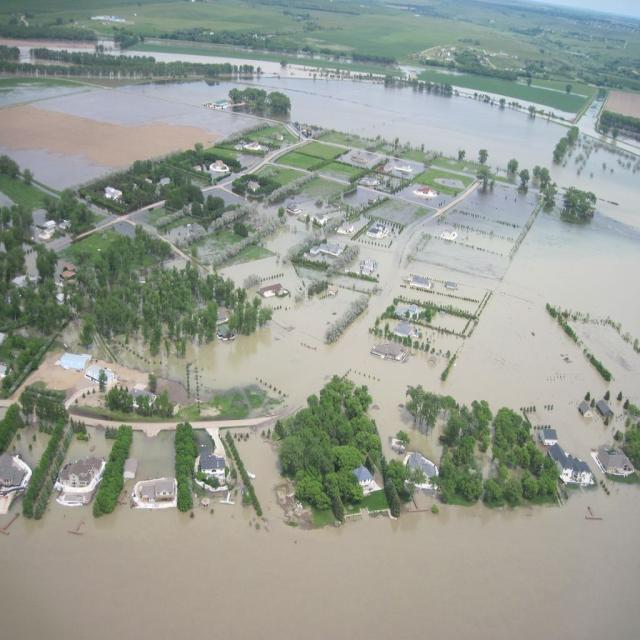flooded_areas: (126, 207, 640, 639)
